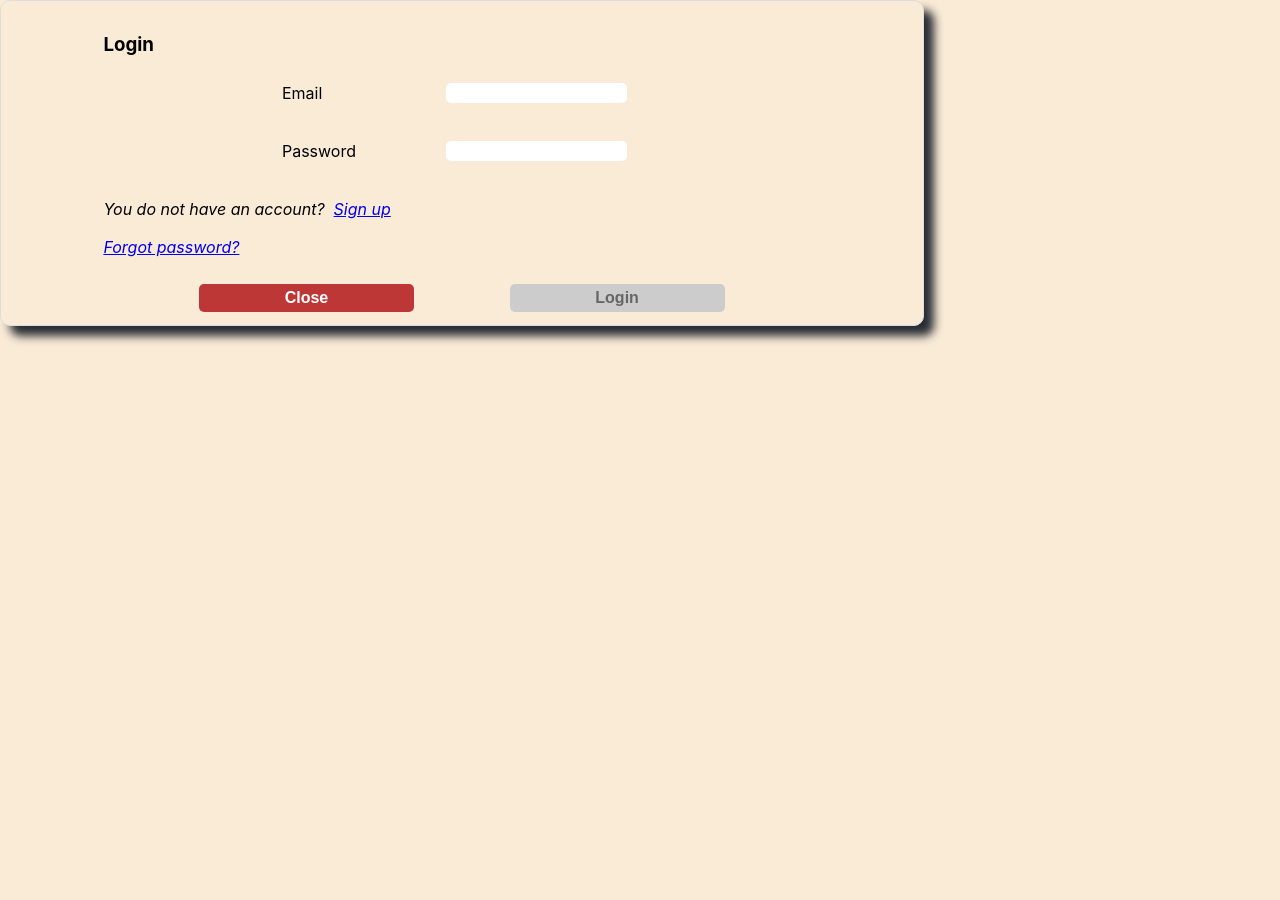
Test: Login › shows the error and stays on the form when the sign in fails
Type "ash@pallet.town" into the field labelled "Email". click: (537, 93)
box: left=446, top=83, right=627, bottom=103
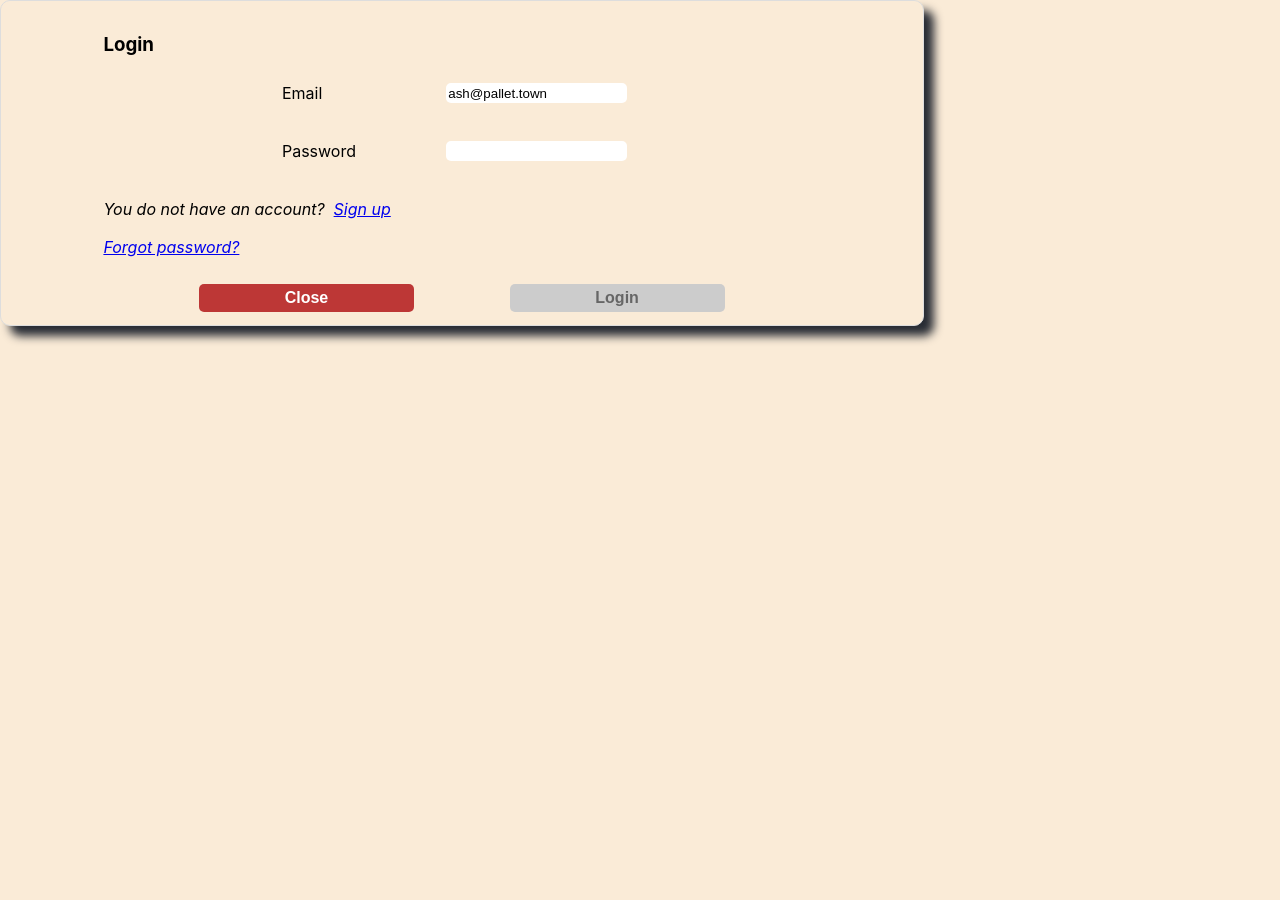
Type "nope" into the password field labelled "Password". click: (537, 151)
box: left=446, top=141, right=627, bottom=161
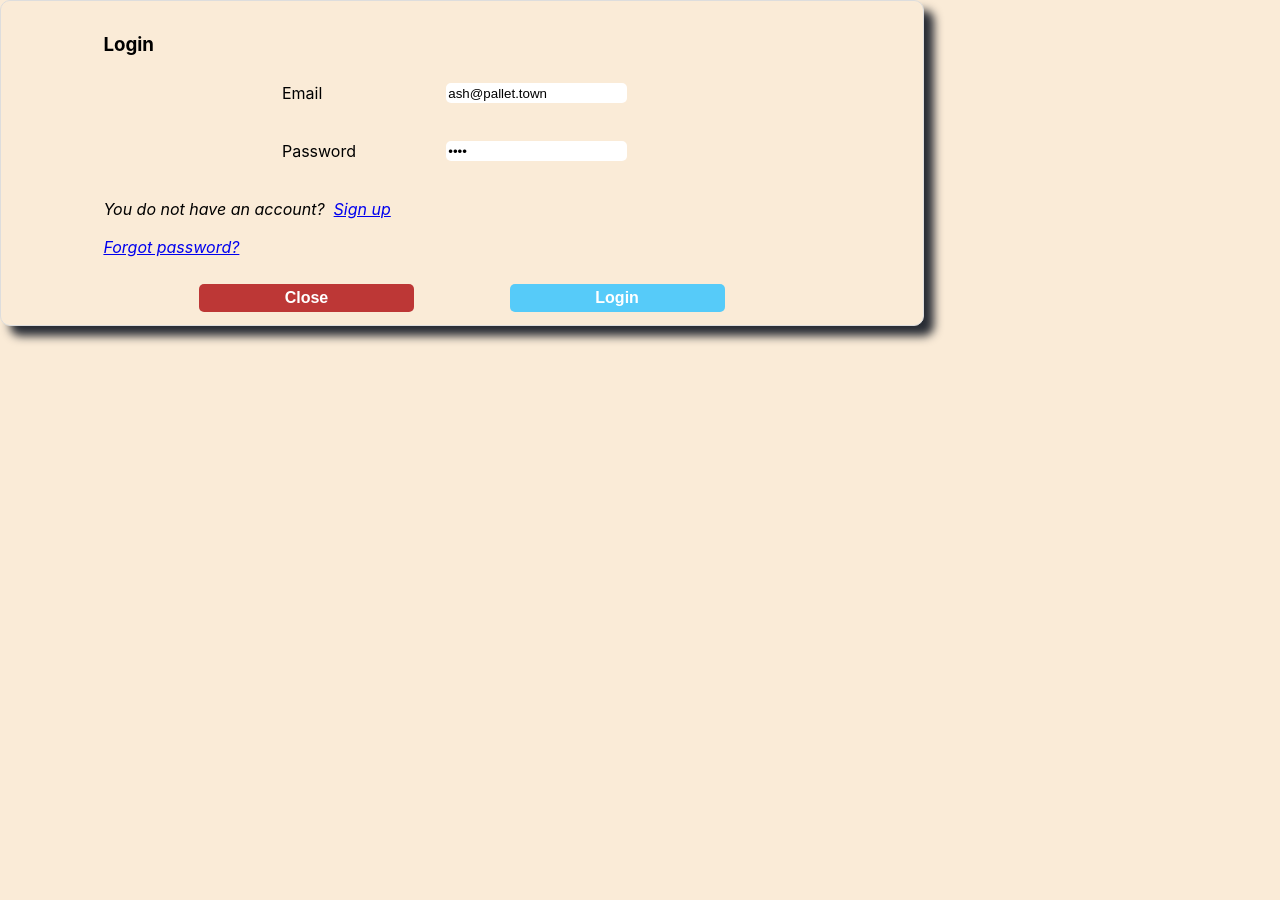
Click the button "Login". click: (617, 298)
box: left=510, top=284, right=725, bottom=312
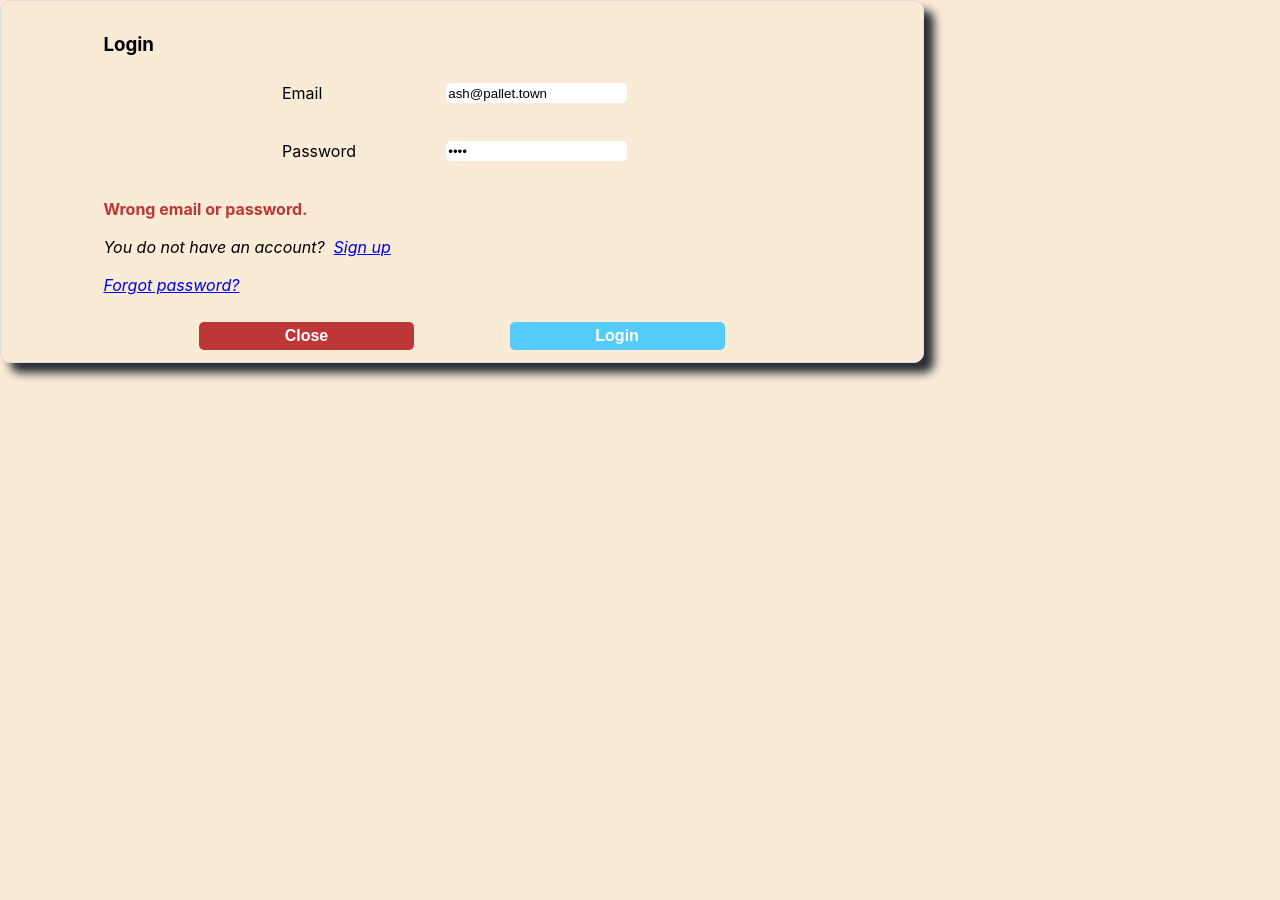
Now the button "Login" is enabled, box left=510, top=322, right=725, bottom=350
Now the message reads "Wrong email or password.", box left=103, top=199, right=308, bottom=219
